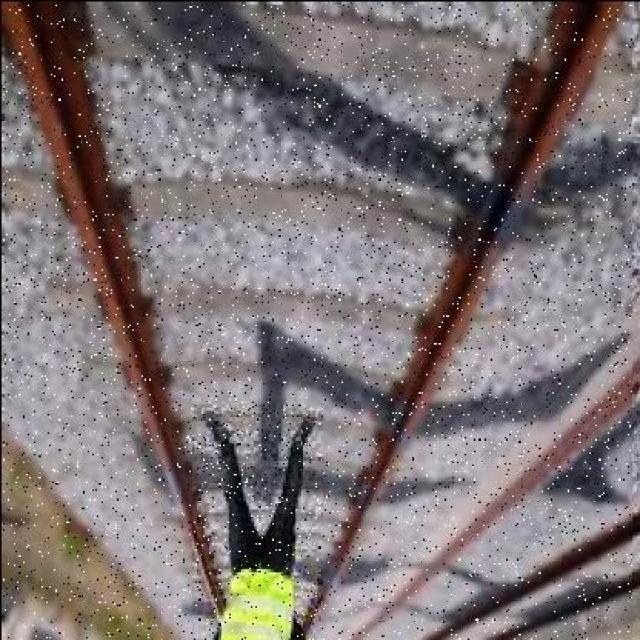rail: (3, 4, 631, 640)
